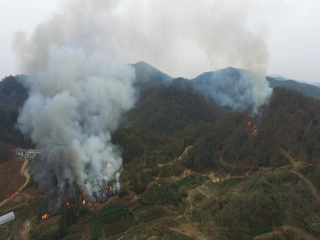smoke: (15, 4, 140, 204), (193, 4, 275, 120)
